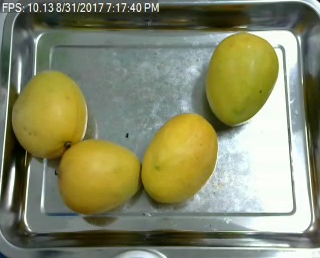Mango: (205, 32, 279, 126), (142, 113, 218, 203), (10, 71, 88, 156), (56, 139, 140, 212)
